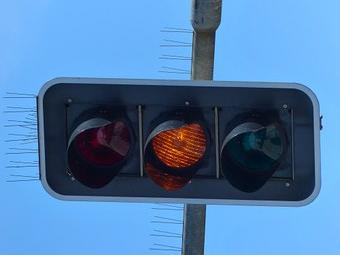trafic: (54, 93, 290, 194)
